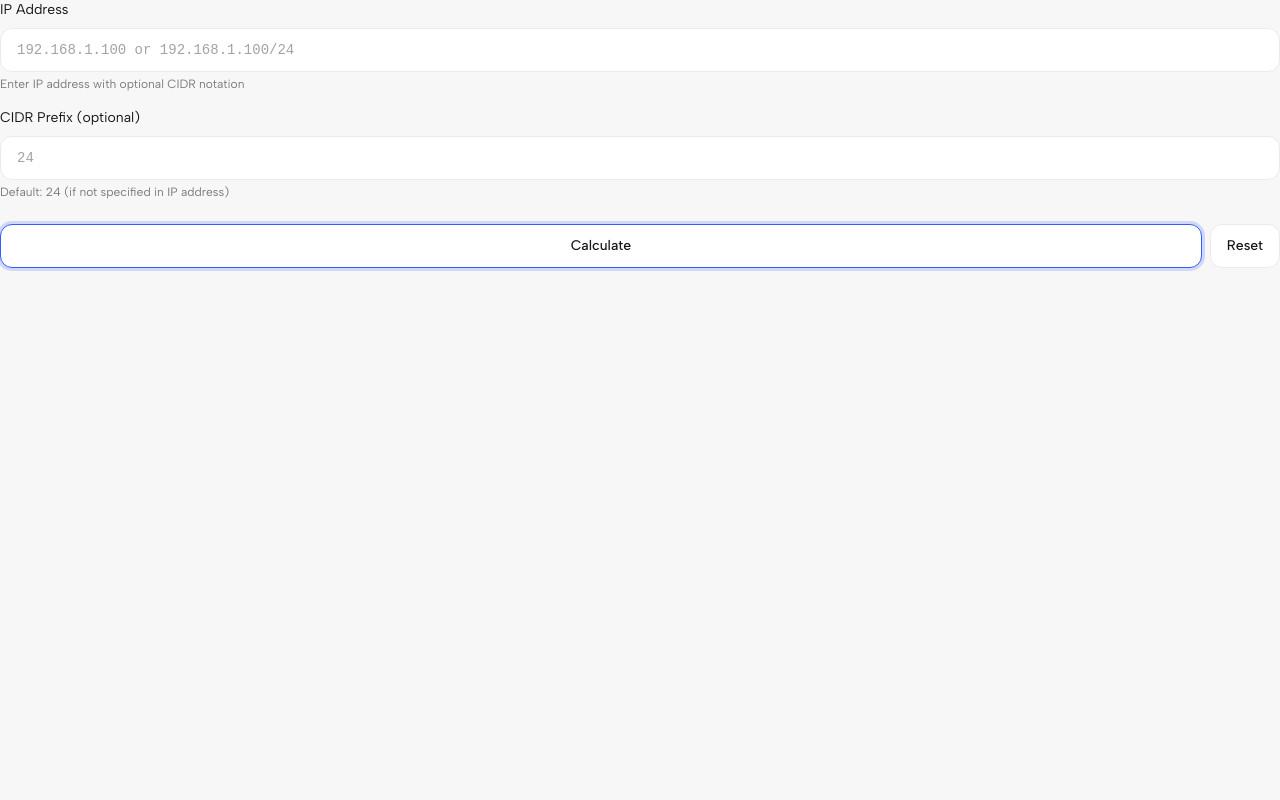
Scenario: IpCalculatorTool › calculates subnet information for valid IP
Type "192.168.1.100/24" into the field with placeholder "192.168.1.100 or 192.168.1.100/24" at (640, 50), box x1=0 y1=28 x2=1279 y2=72
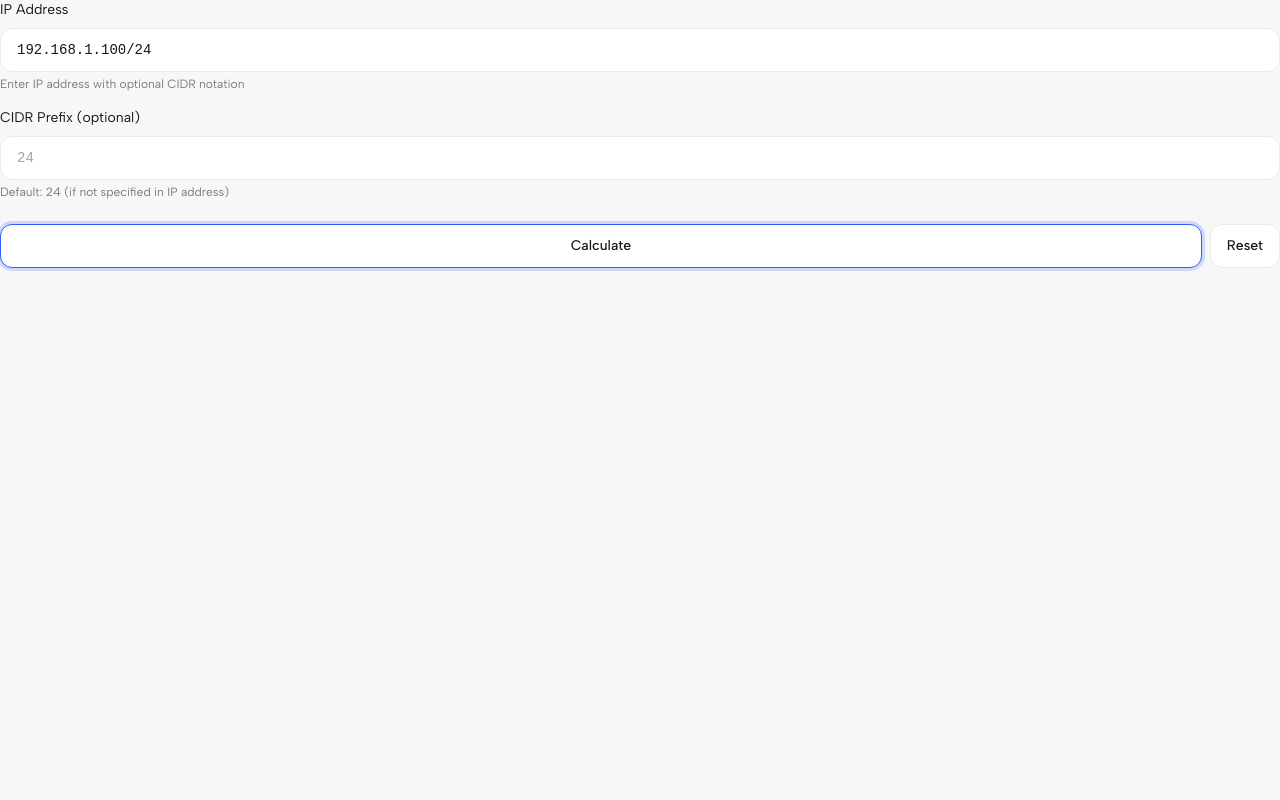
Click the button "Calculate" at (601, 246), box x1=0 y1=224 x2=1202 y2=268
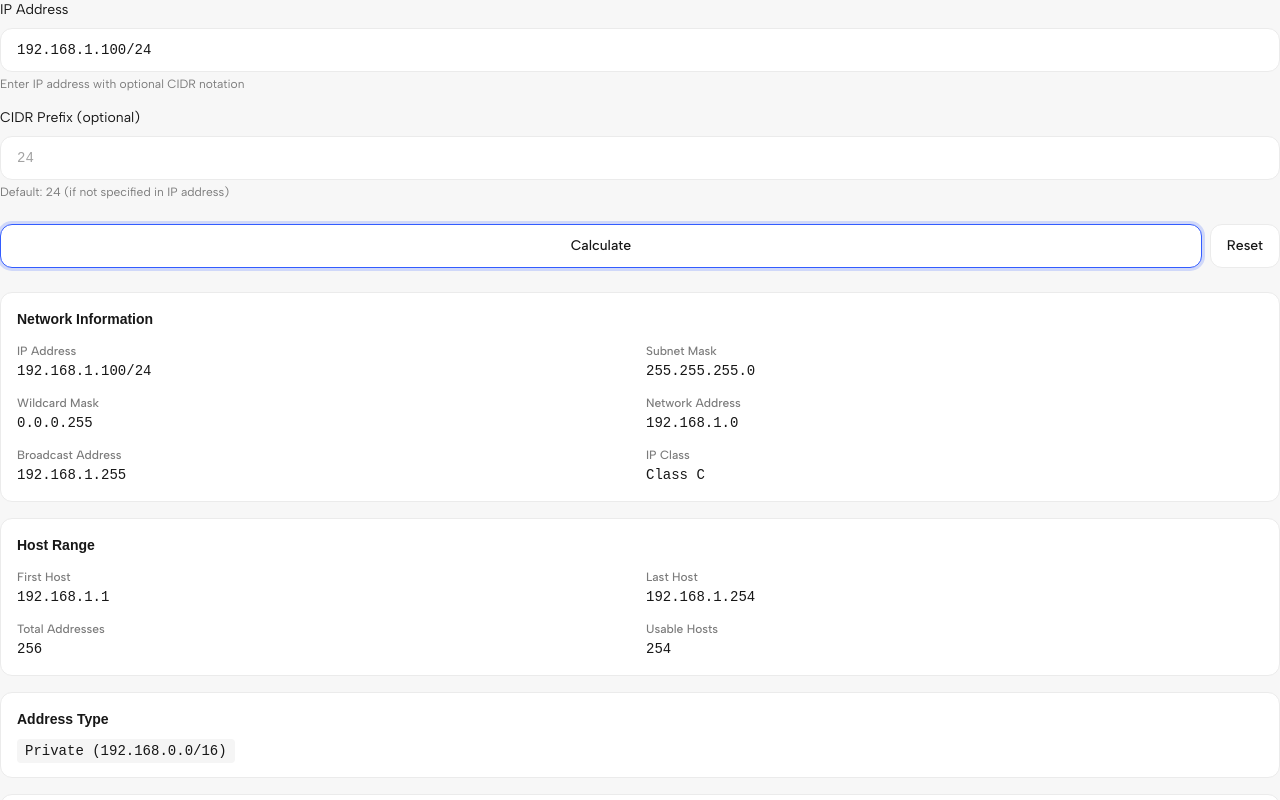
Expected: the heading "Network Information" is shown, x1=17 y1=311 x2=153 y2=327
Expected: the text "192.168.1.0" is shown, x1=646 y1=415 x2=738 y2=431
Expected: the text "255.255.255.0" is shown, x1=646 y1=363 x2=755 y2=379
